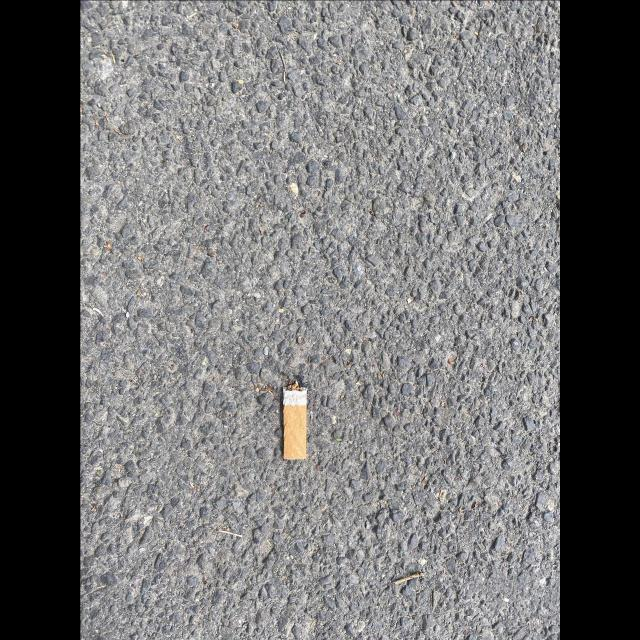cigarette: (282, 387, 306, 459)
